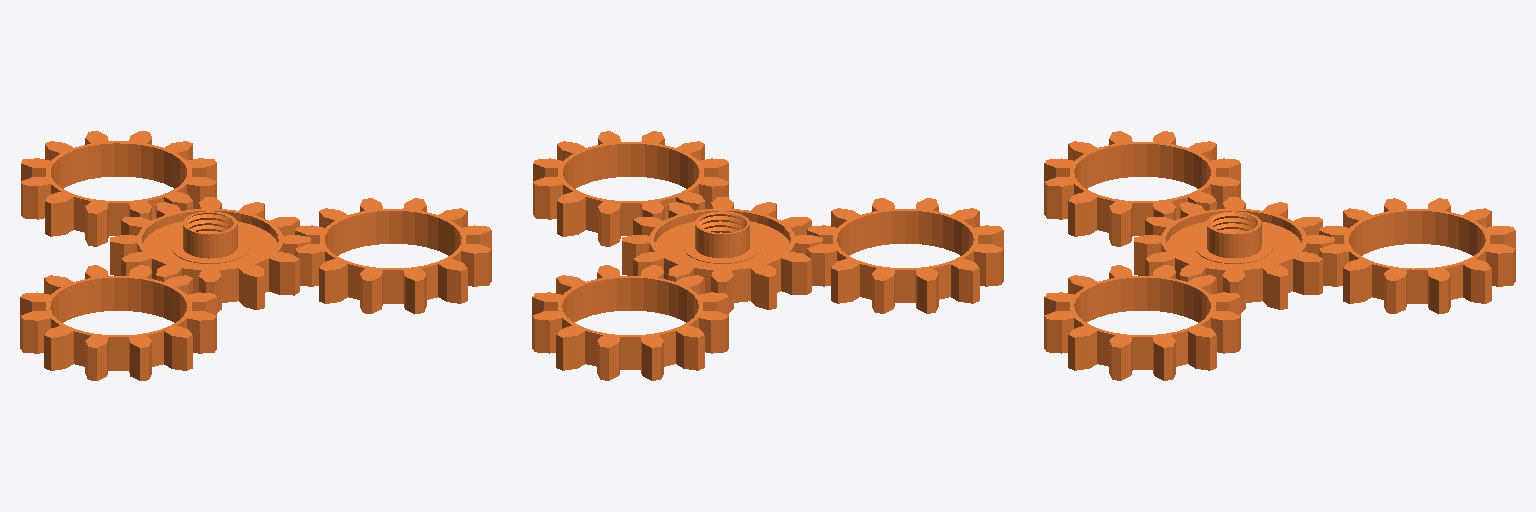
URDF robot description (gears):
<?xml version="1.0" ?>
<robot name="gears">
  <link name="base_link">
    <inertial>
      <!-- <origin rpy="0 0.0 0.0" xyz="0 0.1 -0.2"/>s -->
      <mass value="0.005"/>
      <inertia ixx="0.000001" ixy="0.0" ixz="0.0" iyy="0.000001" iyz="0.0" izz="0.000001"/>
    </inertial>
    <visual>
      <!-- <origin rpy="0 0.0 0.0" xyz="0 0.1 -0.2"/> -->
      <geometry>
        <mesh filename="package://demo_world/meshes/gears.dae" scale="0.25 0.25 0.25"/>
      </geometry>
    </visual>
    <collision>
      <!-- <origin rpy="0 0.0 0.0" xyz="0 0.1 -0.2"/> -->
      <geometry>
        <mesh filename="package://demo_world/meshes/gears.dae" scale="0.25 0.25 0.25"/>
      </geometry>
    </collision>
  </link>
</robot>

--- What the picture shows (computed from the rendered views, not written in the file) ---
3 views of the same robot in one strip: view 1: azimuth 30°, elevation 25°; view 2: azimuth 150°, elevation 25°; view 3: azimuth 270°, elevation 25° (orthographic).
Robot: gears — 1 links, 0 joints (none); root link base_link; default pose: all joints at 0.
Links seen in each view (by area): view 1: base_link; view 2: base_link; view 3: base_link.
Link boxes in pixels (box(x1,y1,x2,y2)): base_link: box(20, 131, 491, 380); base_link: box(532, 131, 1003, 380); base_link: box(1044, 131, 1515, 380).
Bounding box of the posed robot: 0.1405 × 0.129 × 0.02 m (x, y, z).
Meshes: 1 distinct files referenced, 1 mesh visuals loaded (1 Collada DAE).